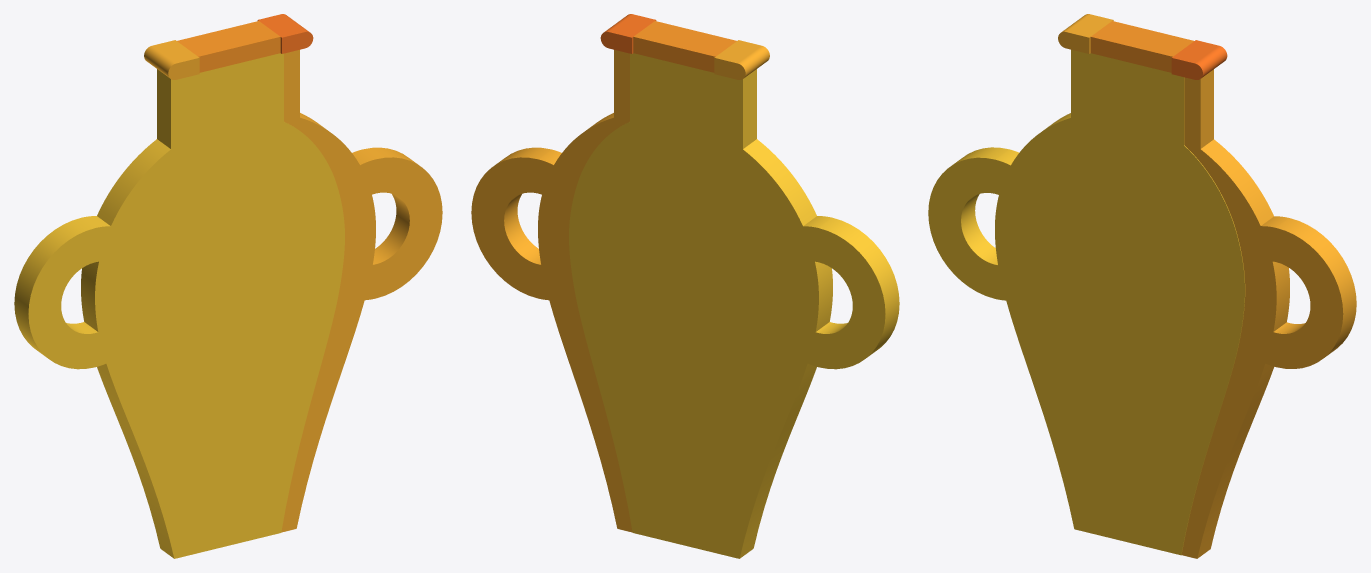
File: Ceramica.fbx
The picture shows the model from 3 angles, left to right: view 1: azimuth 30°, elevation 25°; view 2: azimuth 150°, elevation 25°; view 3: azimuth 330°, elevation 25°; orthographic projection.
Visible parts, largest first — view 1: Modelo; view 2: Modelo; view 3: Modelo.
Boxes of the visible parts, x1,y1,x2,y2 form: Modelo: [14, 14, 442, 558]; Modelo: [471, 14, 899, 558]; Modelo: [928, 14, 1356, 558].
Size of the model in its own units: 130 by 150 by 13.22.
